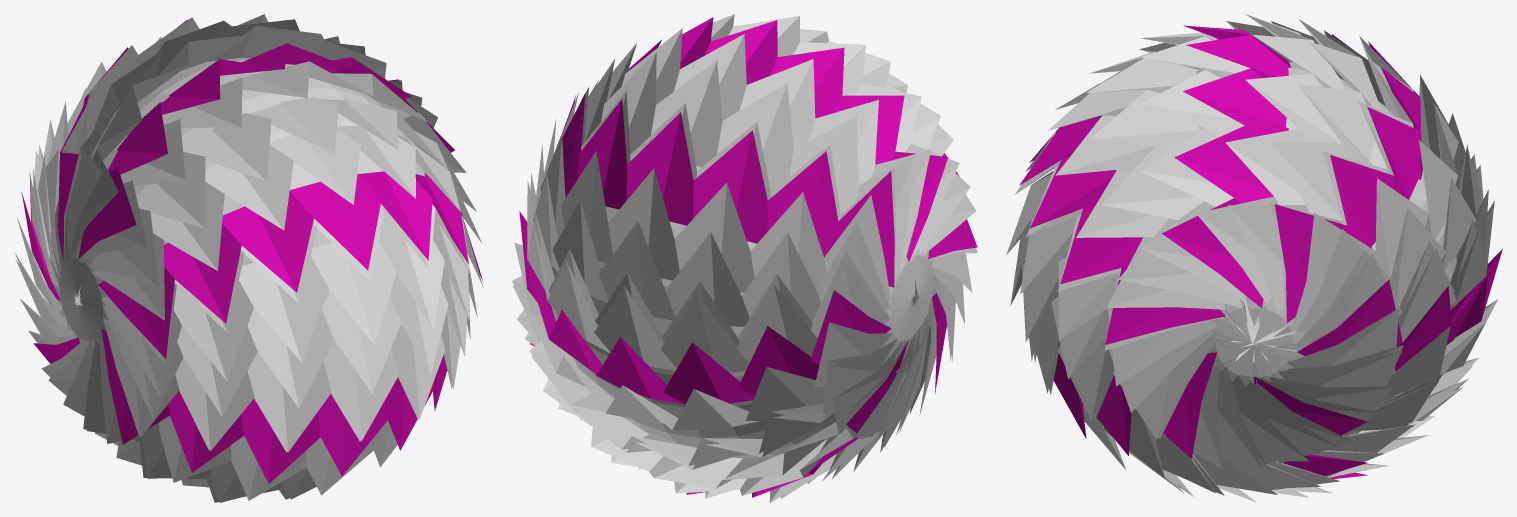
Rendered from spinball.fbx.
The picture shows the model from 3 angles, left to right: view 1: azimuth 30°, elevation 25°; view 2: azimuth 150°, elevation 25°; view 3: azimuth 270°, elevation 25°; orthographic projection.
Visible parts, largest first — view 1: Sphere; view 2: Sphere; view 3: Sphere.
Part boxes in pixels (box(x1,y1,x2,y2)): Sphere: box(14, 14, 483, 502); Sphere: box(512, 14, 977, 502); Sphere: box(1006, 14, 1502, 502).
Size of the model in its own units: 200 by 248 by 249.
